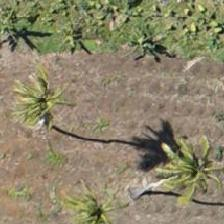coconut_tree: (142, 122, 223, 212), (0, 50, 81, 140), (41, 167, 131, 223)
